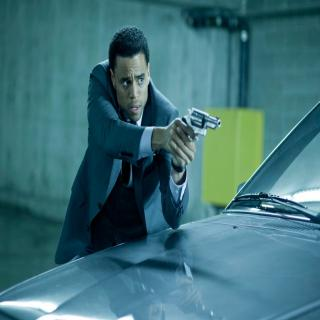gun: (169, 96, 224, 166)
